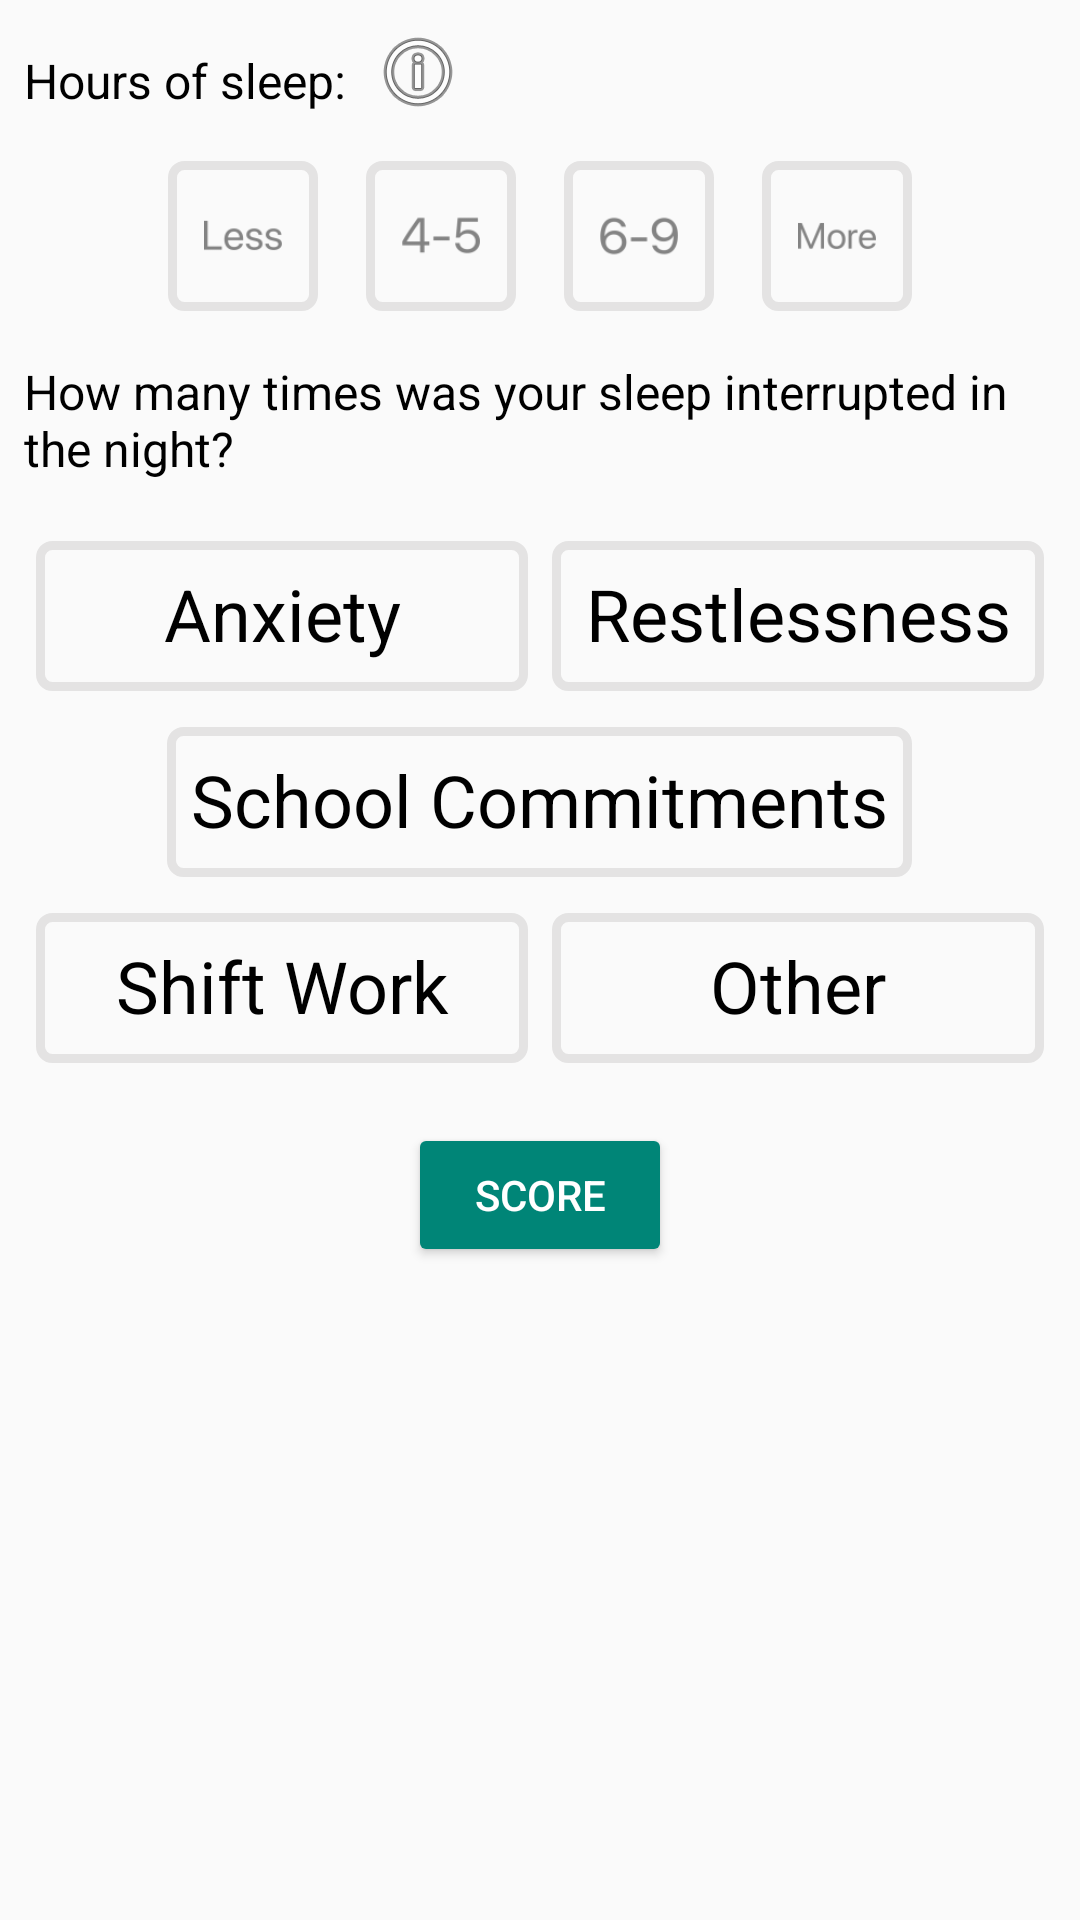

Screen size 1080px x 1920px. Icon name, then its center in pixels as (x,y):
info details: (418,72)
